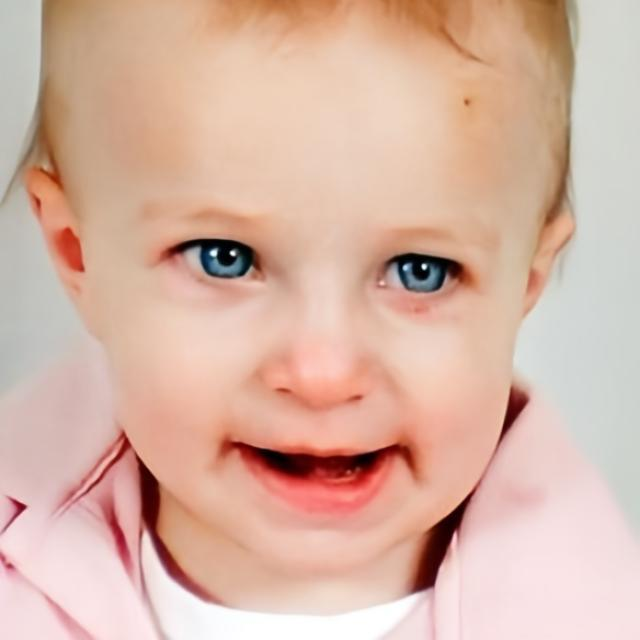happy: (110, 32, 520, 574)
